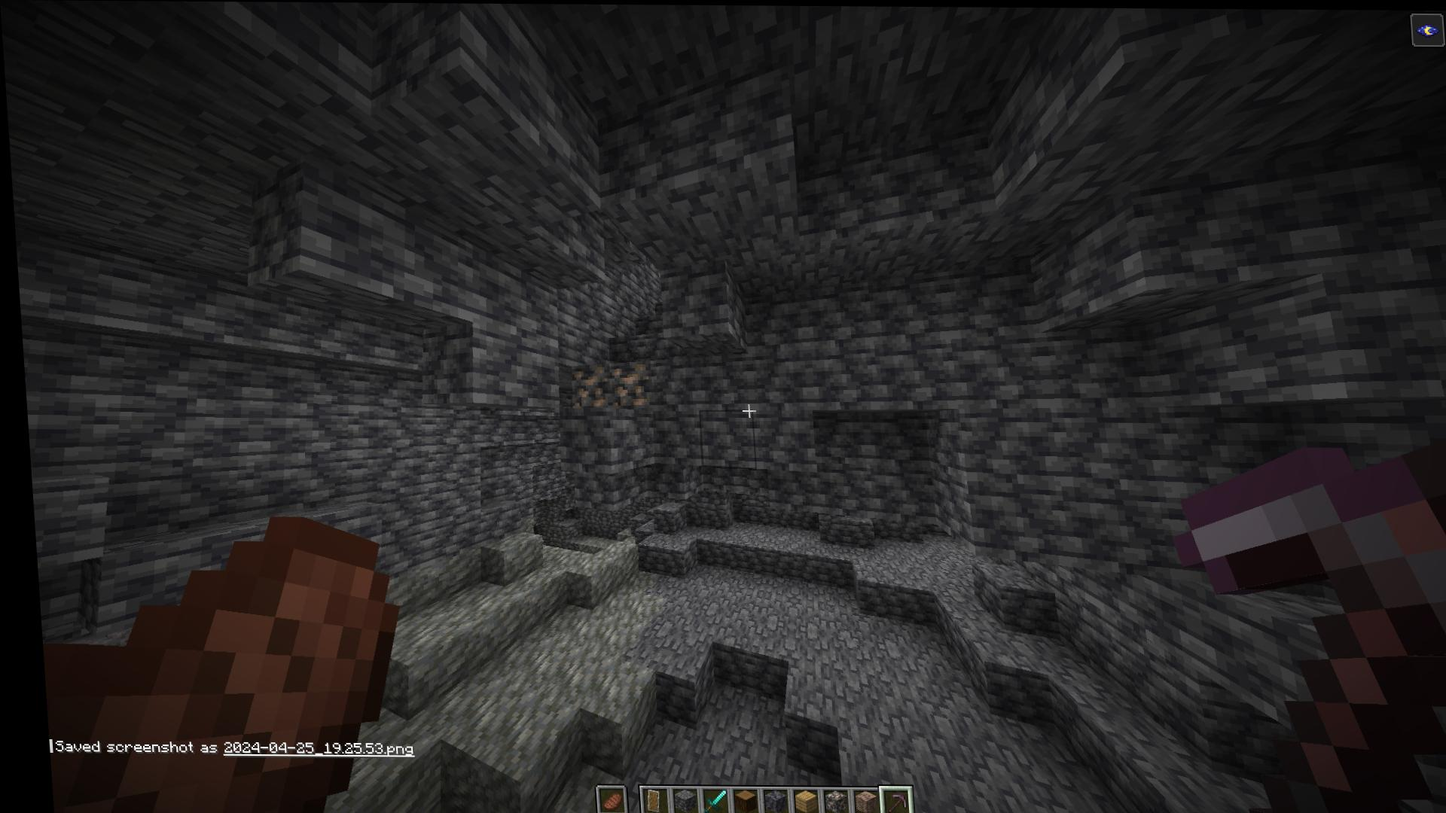iron ore: (606, 362, 646, 406), (567, 367, 606, 407)
